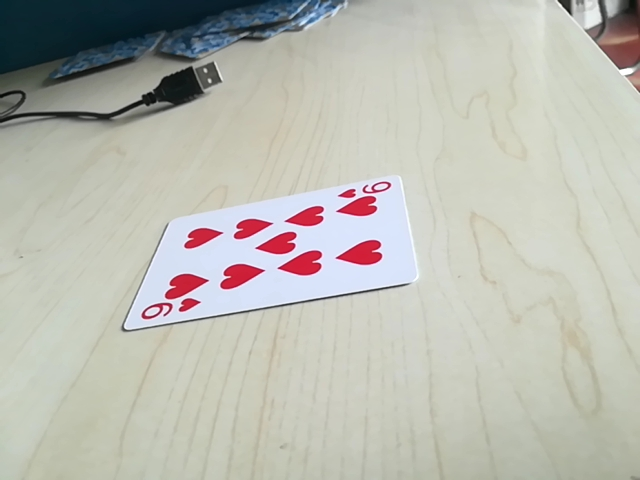hx 9: (136, 299, 205, 326), (341, 176, 399, 202)
